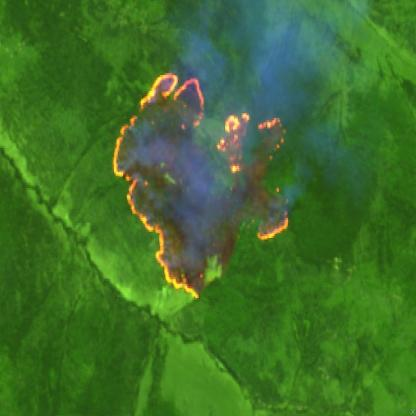fire: (108, 65, 294, 306)
